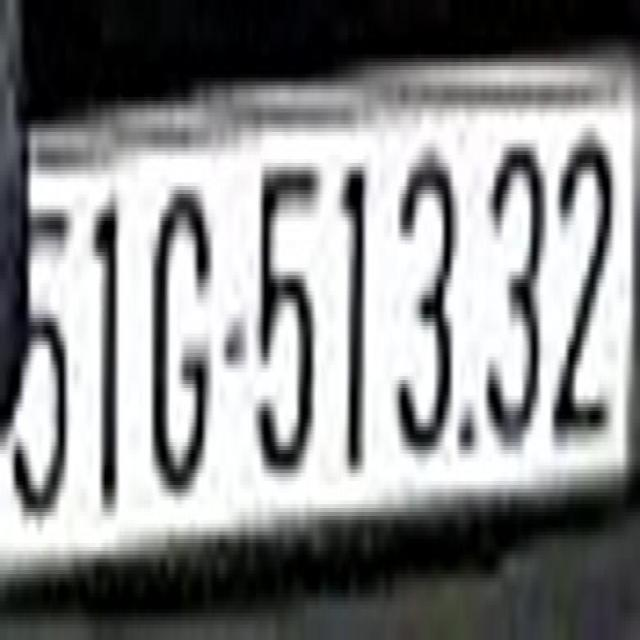1: (84, 163, 130, 551), (332, 109, 376, 488)
2: (550, 70, 618, 462)
3: (390, 116, 456, 492), (484, 90, 547, 470)
5: (256, 128, 322, 496), (13, 155, 72, 543)
G: (148, 143, 214, 504)
